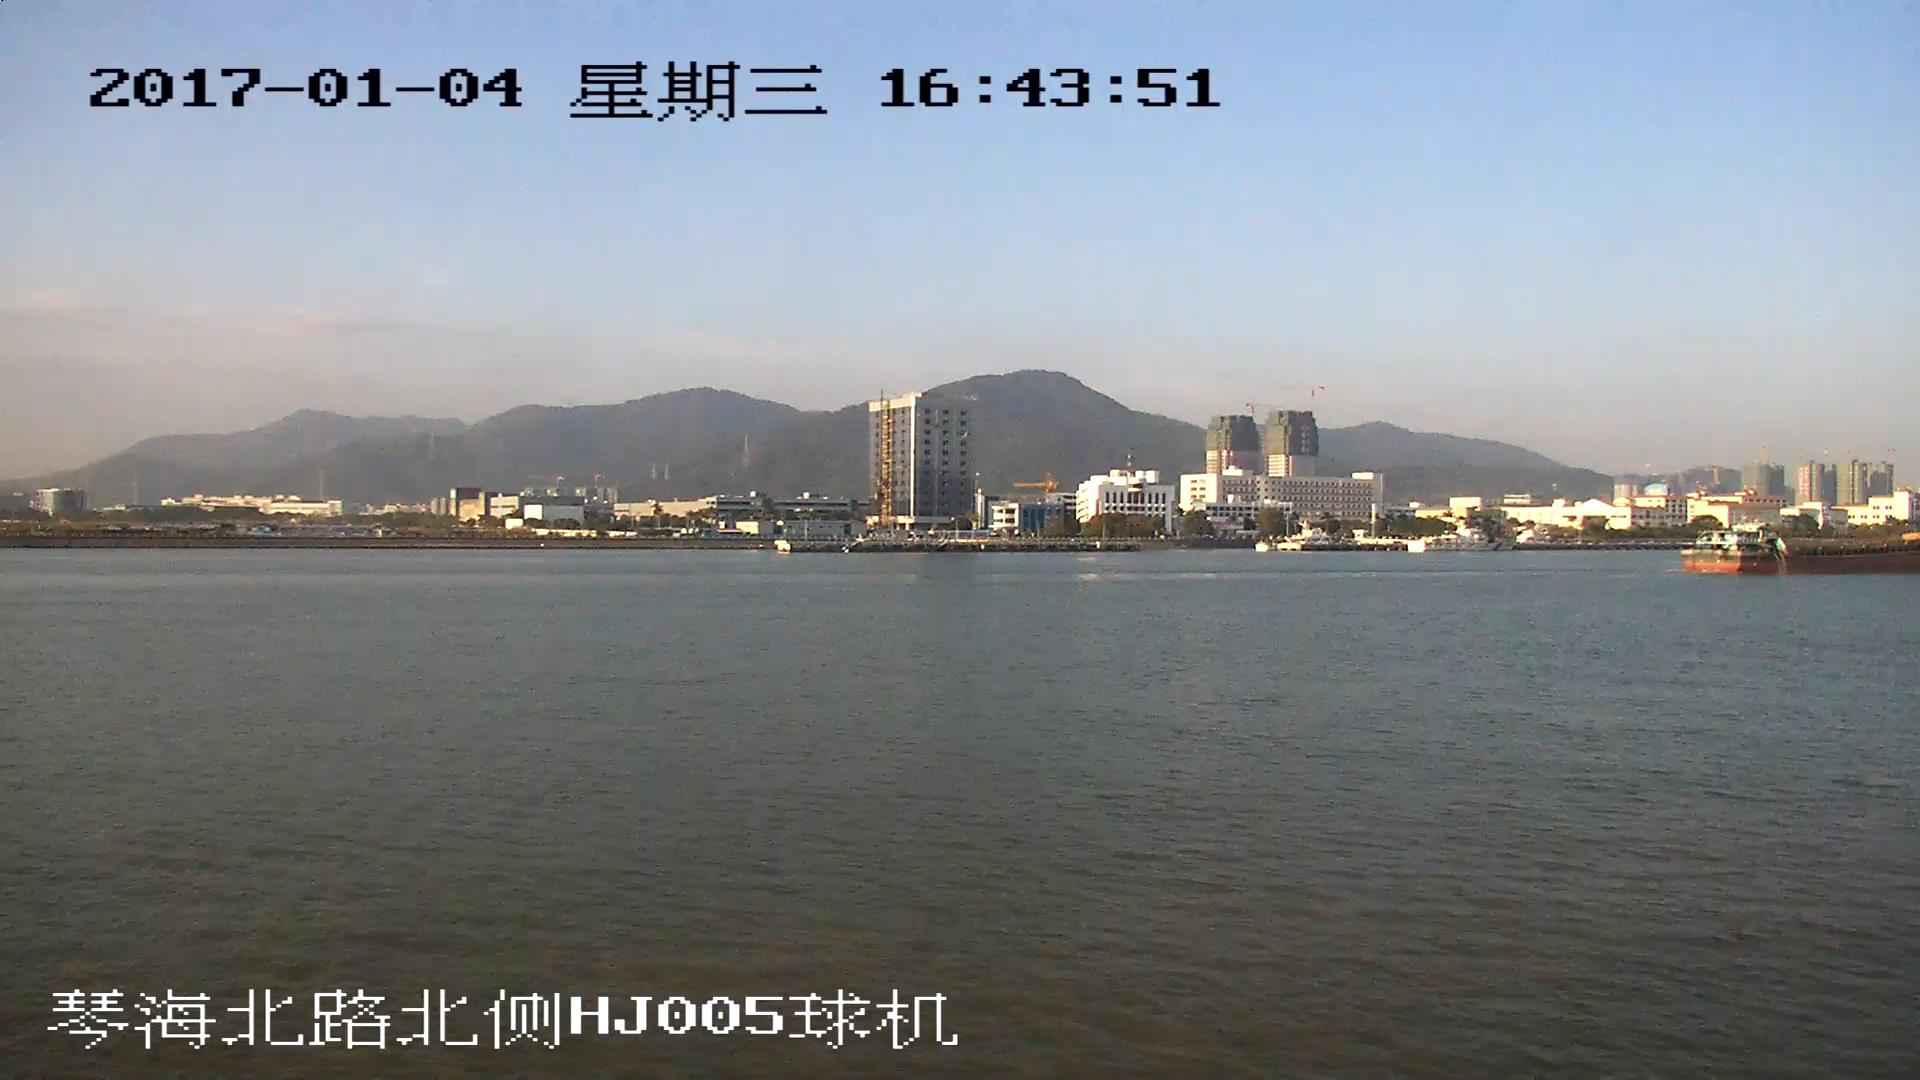bulk cargo carrier: (1689, 525, 1920, 576)
